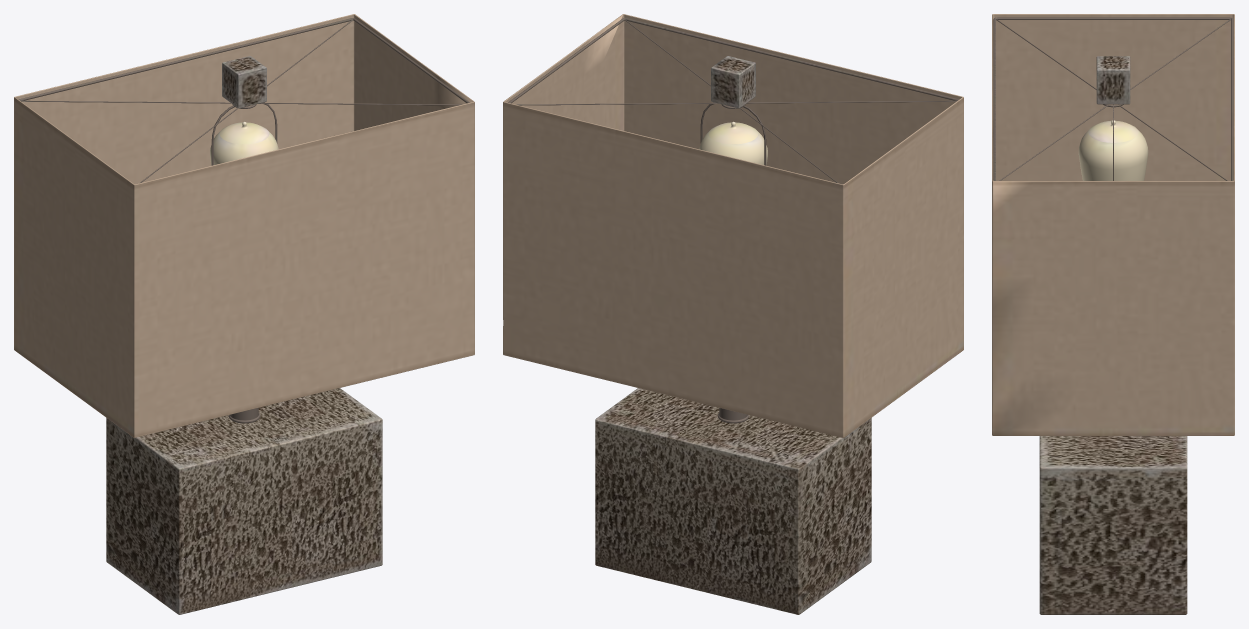
3 views of the same model, side by side, from view 1: azimuth 30°, elevation 25°; view 2: azimuth 150°, elevation 25°; view 3: azimuth 270°, elevation 25° (orthographic).
Visible parts, largest first — view 1: RootNode; view 2: RootNode; view 3: RootNode.
Boxes of the visible parts, x1,y1,x2,y2 form: RootNode: [14, 14, 474, 614]; RootNode: [503, 14, 963, 614]; RootNode: [992, 14, 1234, 614].
Size of the model in its own units: 0.2903 by 0.406 by 0.1778.
Materials: 1 (1 with a texture image).
